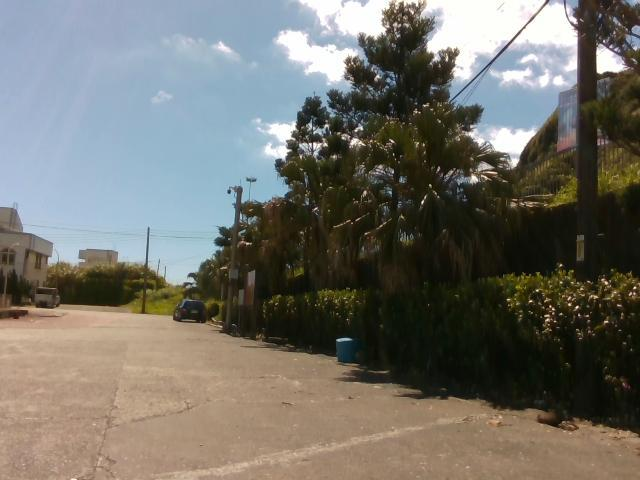pollute: (332, 335, 360, 365)
